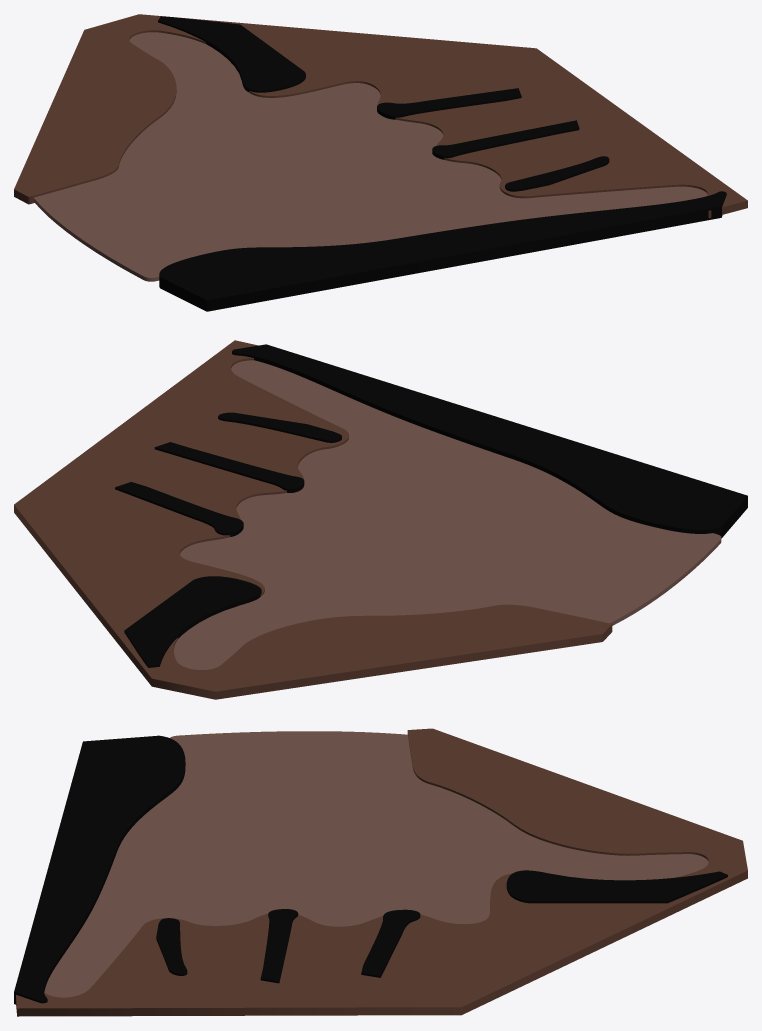
File: emoji_u1f919_1f3ff.glb
3 views of the same model, one above another, from view 1: azimuth 30°, elevation 25°; view 2: azimuth 150°, elevation 25°; view 3: azimuth 270°, elevation 25° (orthographic). The views are drawn at different scales.
Parts seen in each view (by area): view 1: emoji_u1f919_1f3ff; view 2: emoji_u1f919_1f3ff; view 3: emoji_u1f919_1f3ff.
Boxes of the visible parts, bbox=[...] form: emoji_u1f919_1f3ff: bbox=[14, 14, 747, 311]; emoji_u1f919_1f3ff: bbox=[14, 340, 747, 699]; emoji_u1f919_1f3ff: bbox=[14, 728, 747, 1016].
Bounding box in the file's own units: 0.03 × 0.0006 × 0.0333.
